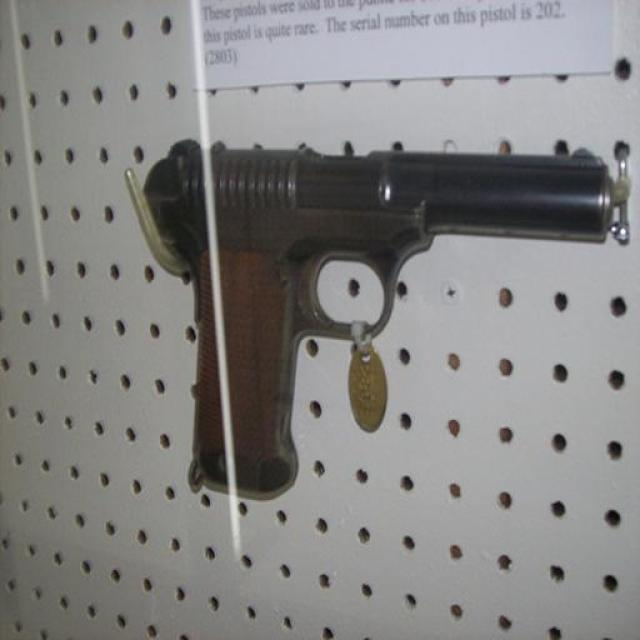pistol: (138, 131, 613, 501)
